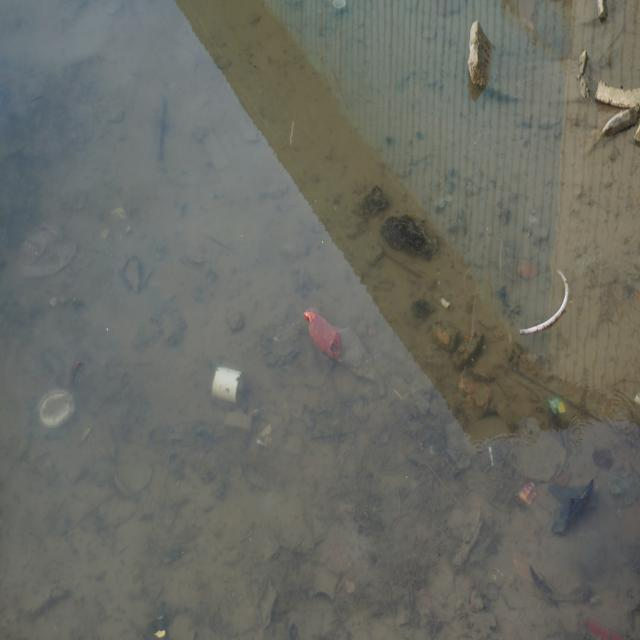Kantong Plastik: (303, 300, 348, 362)
